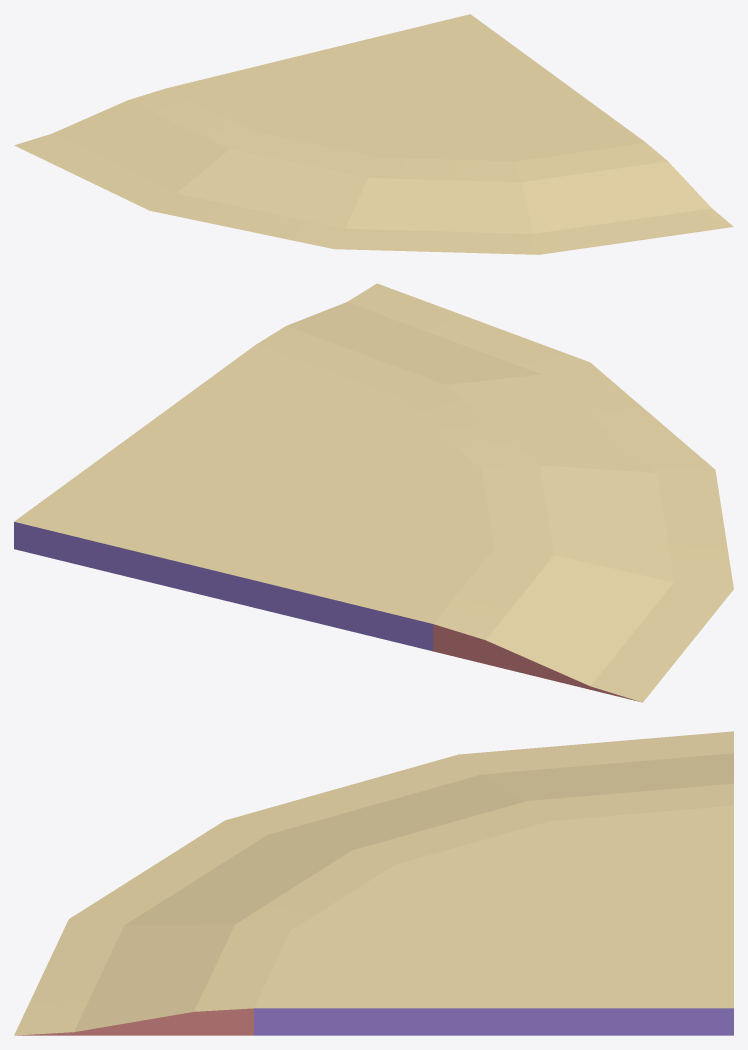
Rendered from Terrain_Sand_Incline_Curve_Outer_12x12.glb.
3 renders of one model, top to bottom at view 1: azimuth 30°, elevation 25°; view 2: azimuth 150°, elevation 25°; view 3: azimuth 270°, elevation 25°, orthographic. The views are drawn at different scales.
Visible parts, largest first — view 1: Terrain_Sand_Incline_Curve_Outer_12x12; view 2: Terrain_Sand_Incline_Curve_Outer_12x12; view 3: Terrain_Sand_Incline_Curve_Outer_12x12.
Part boxes in pixels (box(x1,y1,x2,y2)): Terrain_Sand_Incline_Curve_Outer_12x12: box(14, 14, 733, 254); Terrain_Sand_Incline_Curve_Outer_12x12: box(14, 283, 733, 702); Terrain_Sand_Incline_Curve_Outer_12x12: box(14, 731, 733, 1035).
Size of the model in its own units: 1200 by 50 by 1200.
